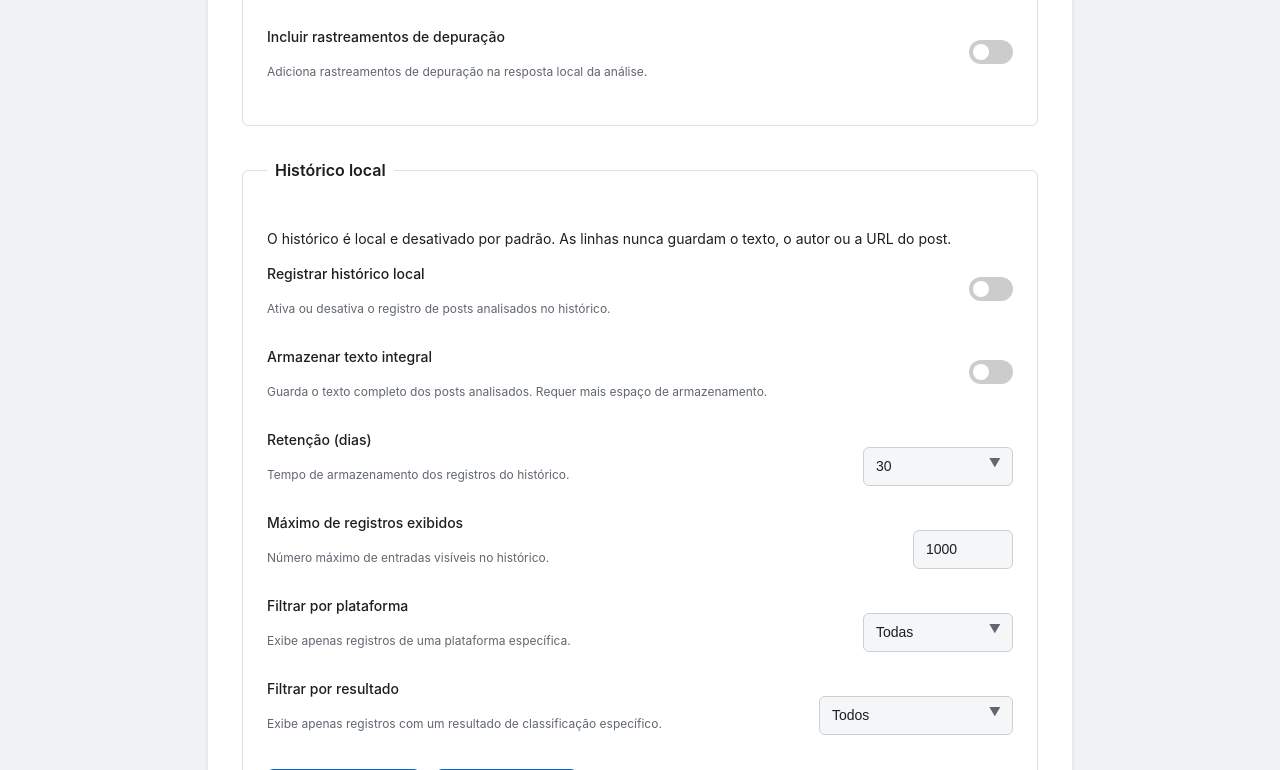
Test: options history › does not enable full-text history without explicit acknowledgement
This screenshot has width=1280, height=770.
(page scrolled)
Click the checkbox named "Armazenar texto integral": (991, 372) [969,360,1013,384]
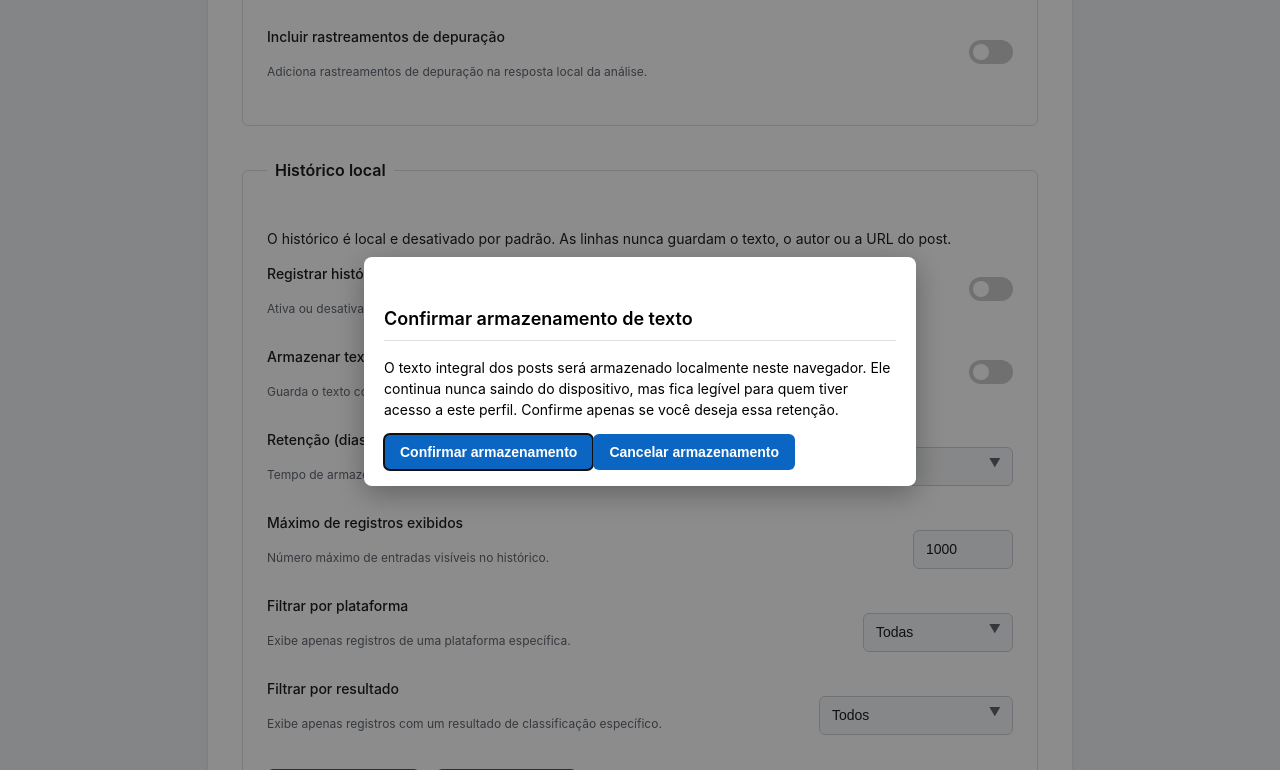
Result: the dialog "Confirmar armazenamento de texto" is shown at [364,256,916,486]
